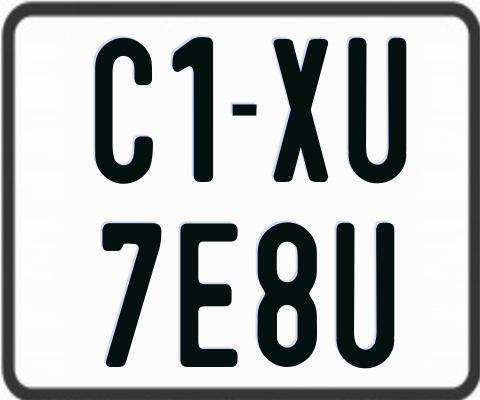1: (170, 35, 211, 185)
7: (101, 222, 164, 369)
8: (256, 219, 316, 368)
C: (92, 35, 155, 186)
E: (177, 220, 236, 369)
U: (347, 37, 411, 184), (333, 222, 391, 371)
X: (273, 39, 329, 186)
